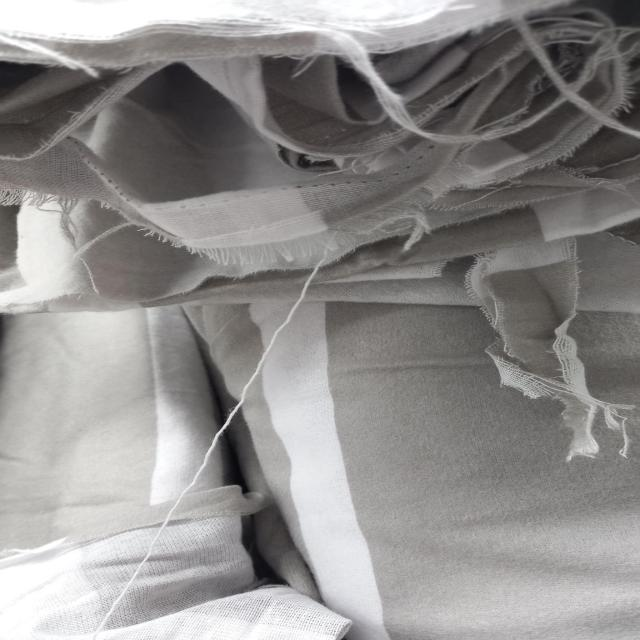cut: (4, 23, 630, 439)
